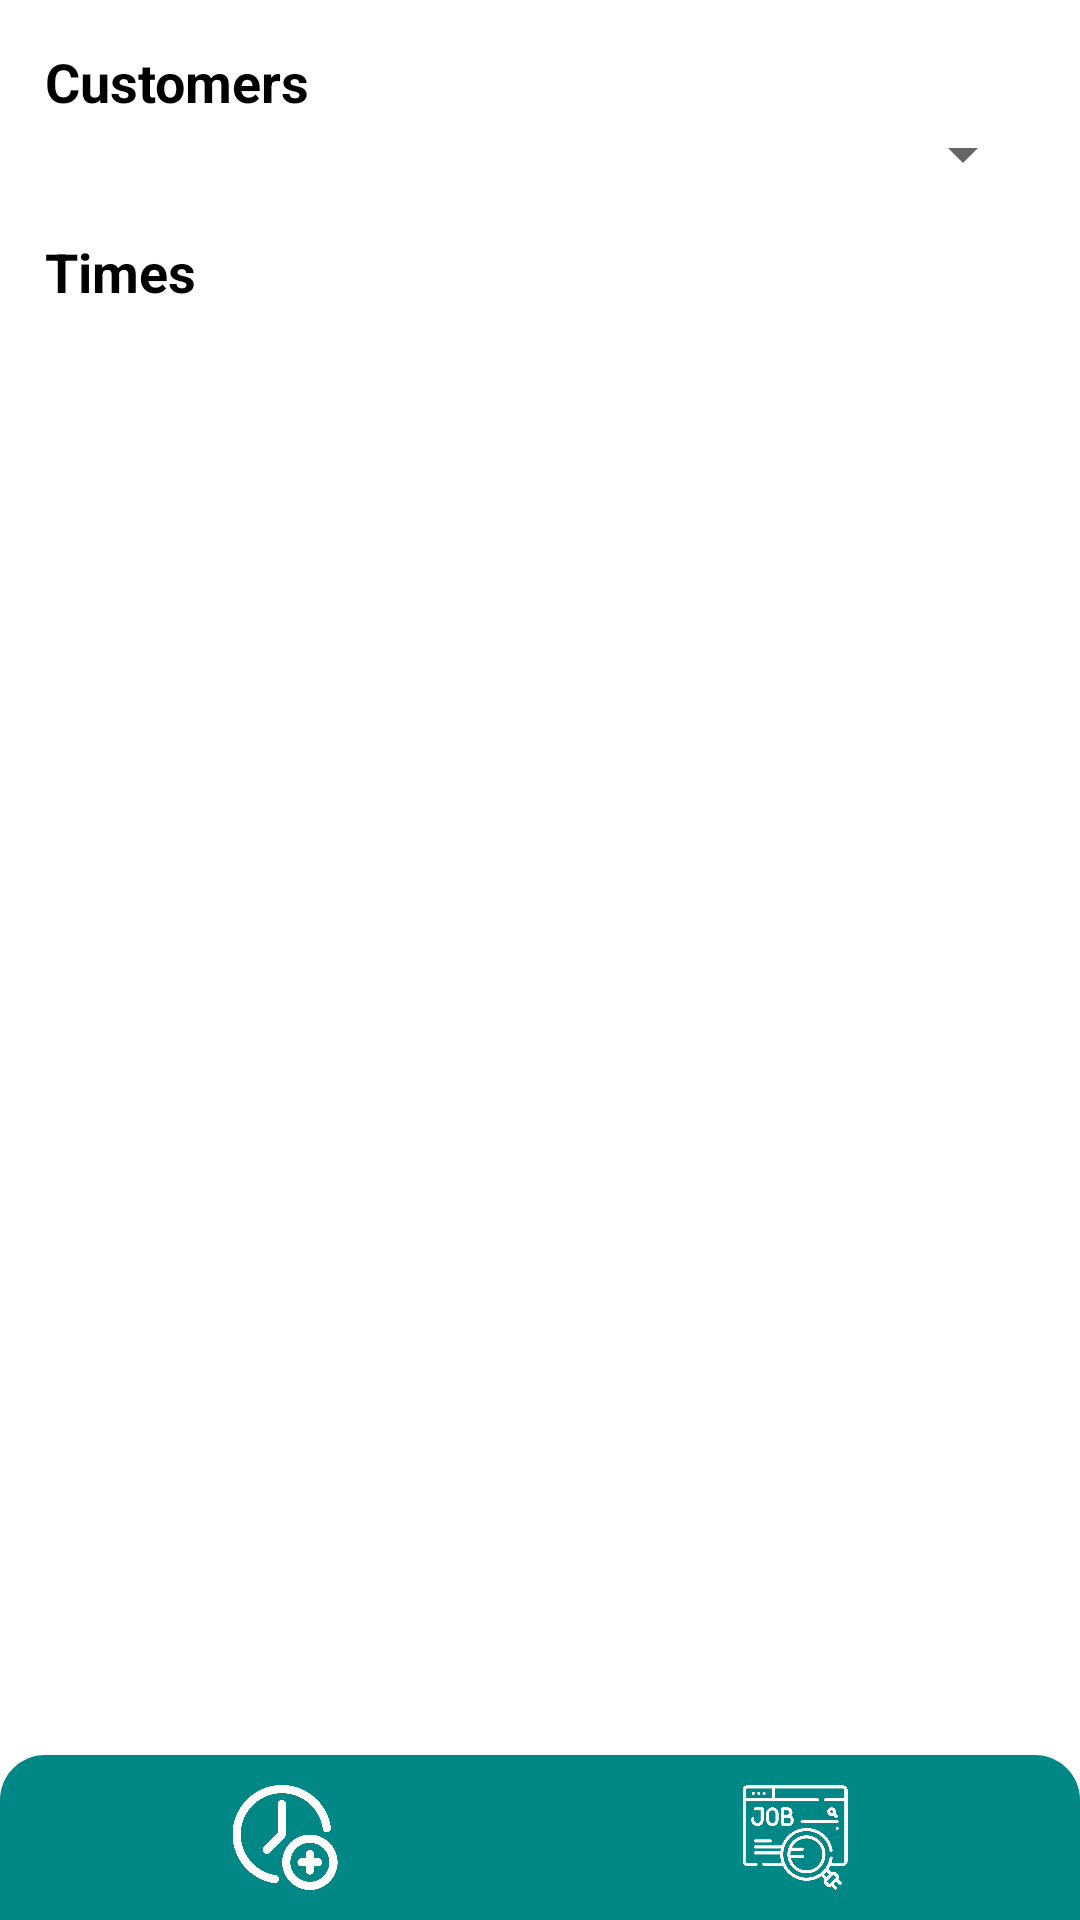

Locate icon controls on the screen. Image size 1080 × 1920, boxes as (x1, y1, x2, y2).
add time: (233, 1785, 338, 1890)
jobs: (743, 1785, 848, 1890)
